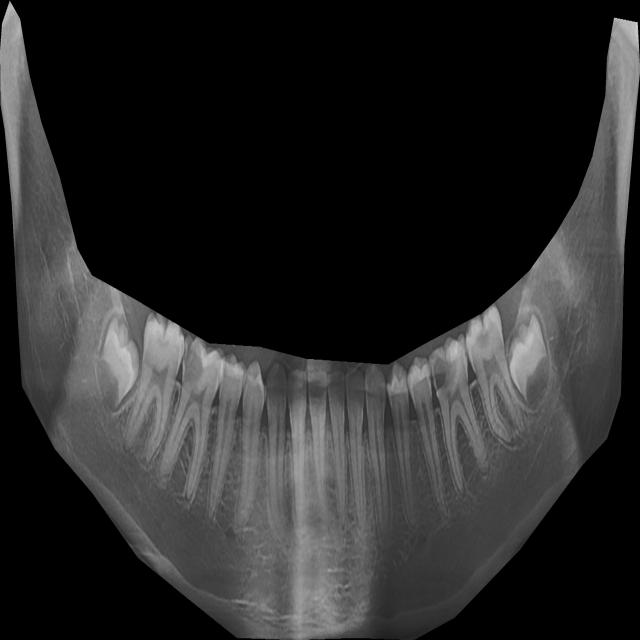mandibula: (0, 1, 640, 640)
